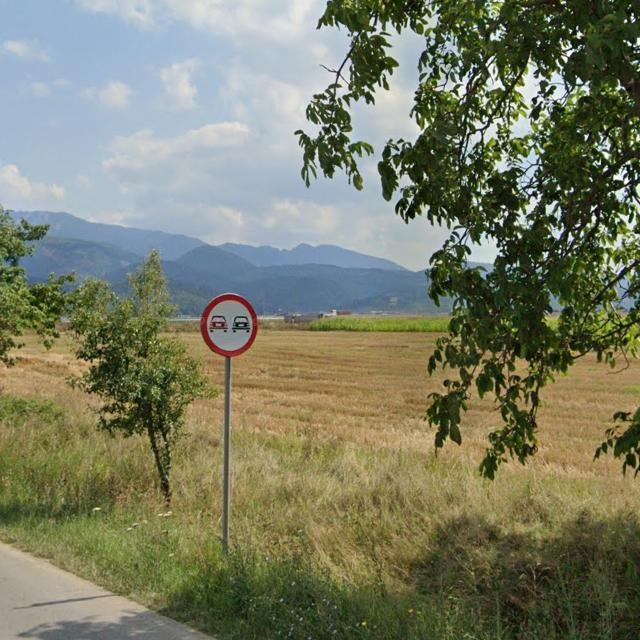forb_overtake: (200, 294, 259, 357)
